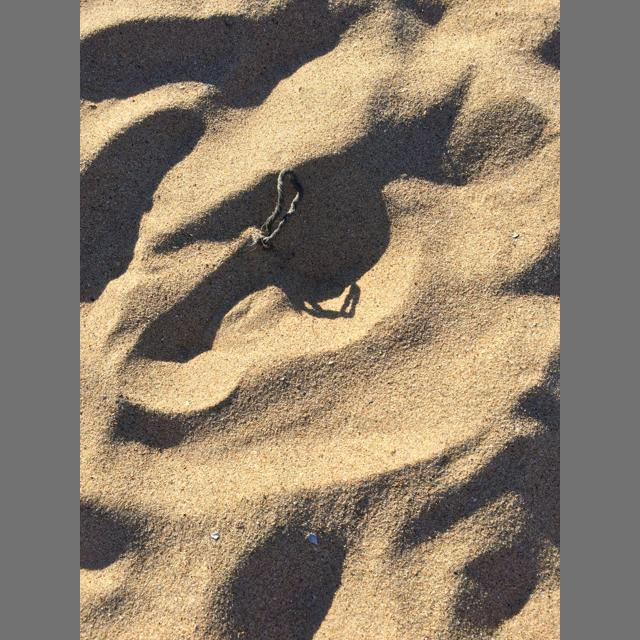litter: (252, 168, 304, 248)
